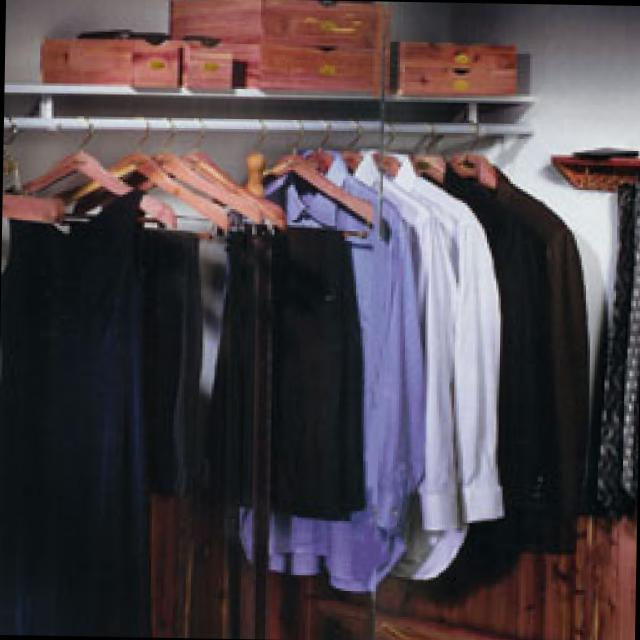ceiling beam: (5, 0, 640, 134)
door bars: (24, 102, 109, 418), (146, 99, 217, 382), (358, 134, 428, 309), (501, 378, 571, 547), (244, 116, 282, 356), (278, 134, 305, 334)
floor -X: (0, 306, 497, 620), (265, 538, 631, 640)
handrail: (0, 487, 359, 638)
lamp crop: (501, 3, 626, 97), (176, 0, 300, 59), (345, 51, 417, 96)
railing: (3, 220, 493, 494)
separation: (356, 93, 637, 555), (351, 96, 486, 313)
table lamp: (412, 591, 542, 638)
wall clock: (0, 25, 353, 433), (37, 428, 359, 634)
